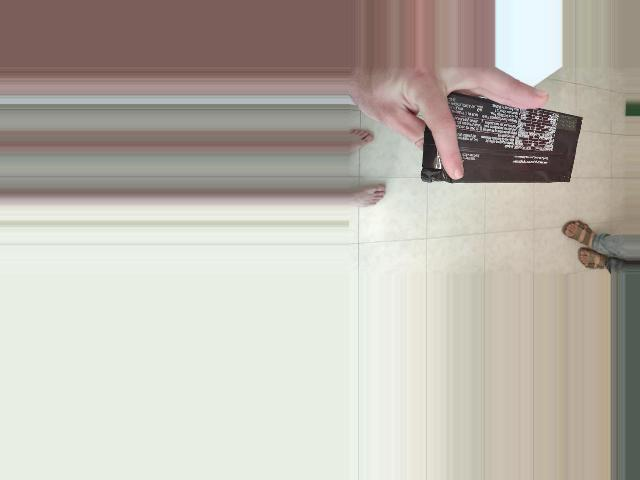chocolate: (427, 105, 539, 282)
